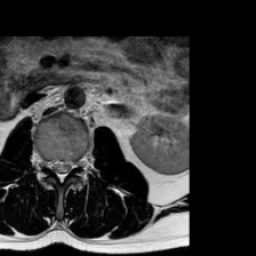CCS_normal: (57, 149, 65, 190)
LFS_normal: (73, 150, 81, 174)
LLS_normal: (65, 149, 73, 179)
RFS_stenosis: (41, 149, 49, 174)
RLS_normal: (49, 148, 57, 180)
